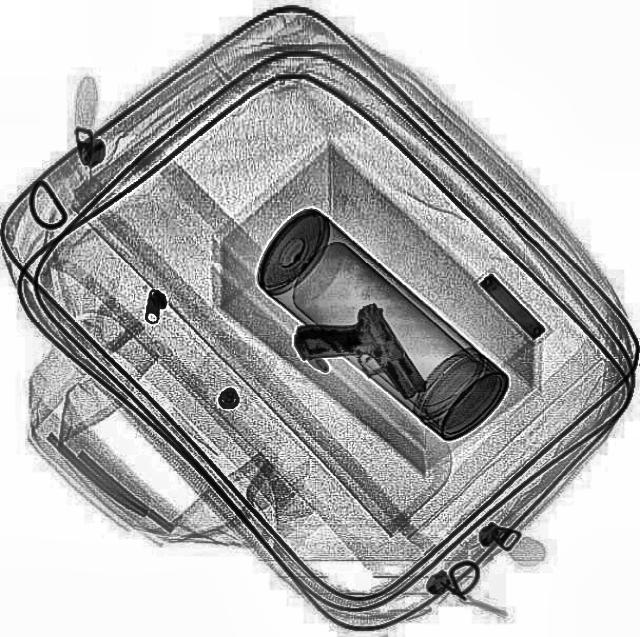Gun: (285, 290, 429, 430)
